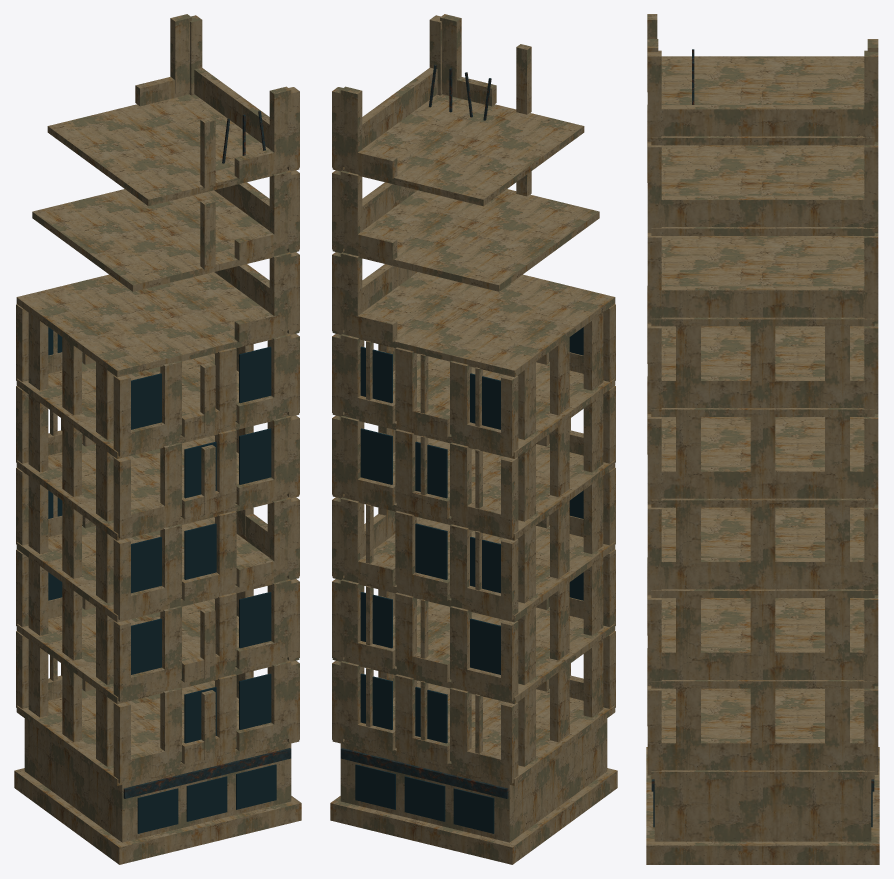
The model's file is city-office.glb.
The picture shows the model from 3 angles, left to right: view 1: azimuth 30°, elevation 25°; view 2: azimuth 150°, elevation 25°; view 3: azimuth 270°, elevation 25°; orthographic projection. The views are drawn at different scales.
Parts seen in each view (by area): view 1: city-office-concrete, city-office-steel (×2); view 2: city-office-concrete, city-office-steel (×2); view 3: city-office-concrete.
Boxes of the visible parts, <box> form: city-office-concrete: <box>14,14,301,864</box>; city-office-steel (×2): <box>48,111,291,833</box>; city-office-concrete: <box>330,14,617,864</box>; city-office-steel (×2): <box>340,64,583,833</box>; city-office-concrete: <box>646,14,879,864</box>.
Bounding box in the file's own units: 7 × 26.89 × 7.
Materials: 3 (2 with a texture image).
